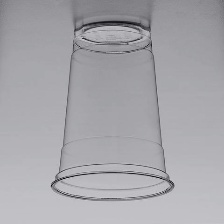glass: (48, 19, 177, 207)
